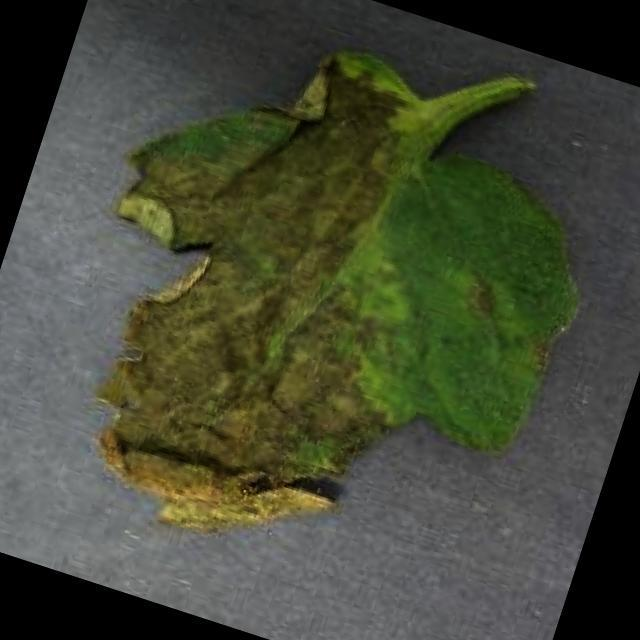Tomato bacterial spot leaf: (21, 0, 640, 629)
